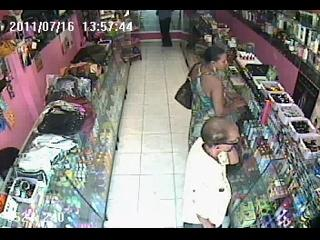Normal: (181, 115, 243, 228), (188, 44, 245, 150), (174, 62, 202, 110), (156, 10, 174, 47), (121, 46, 142, 64)
